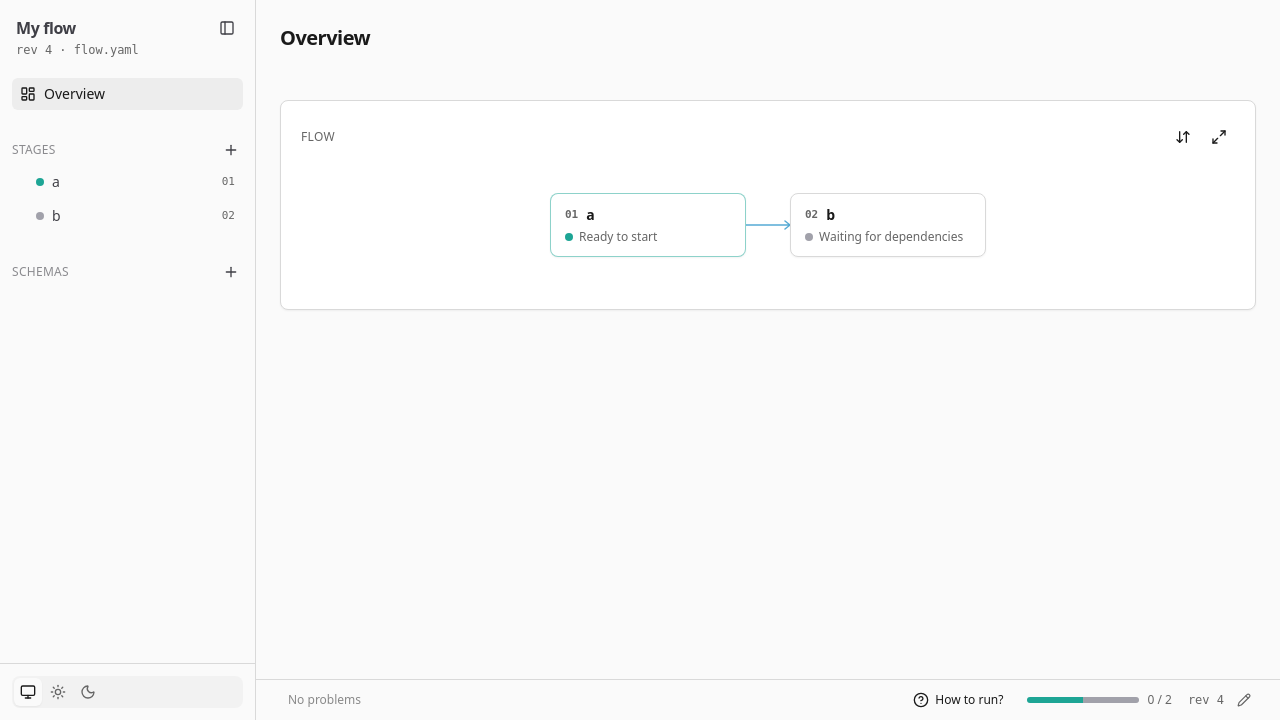
inline editing › escape_cancels_a_name_edit
Click the button with aria-label "Edit flow name" at {"x": 46, "y": 28}, box [12,16,80,40]
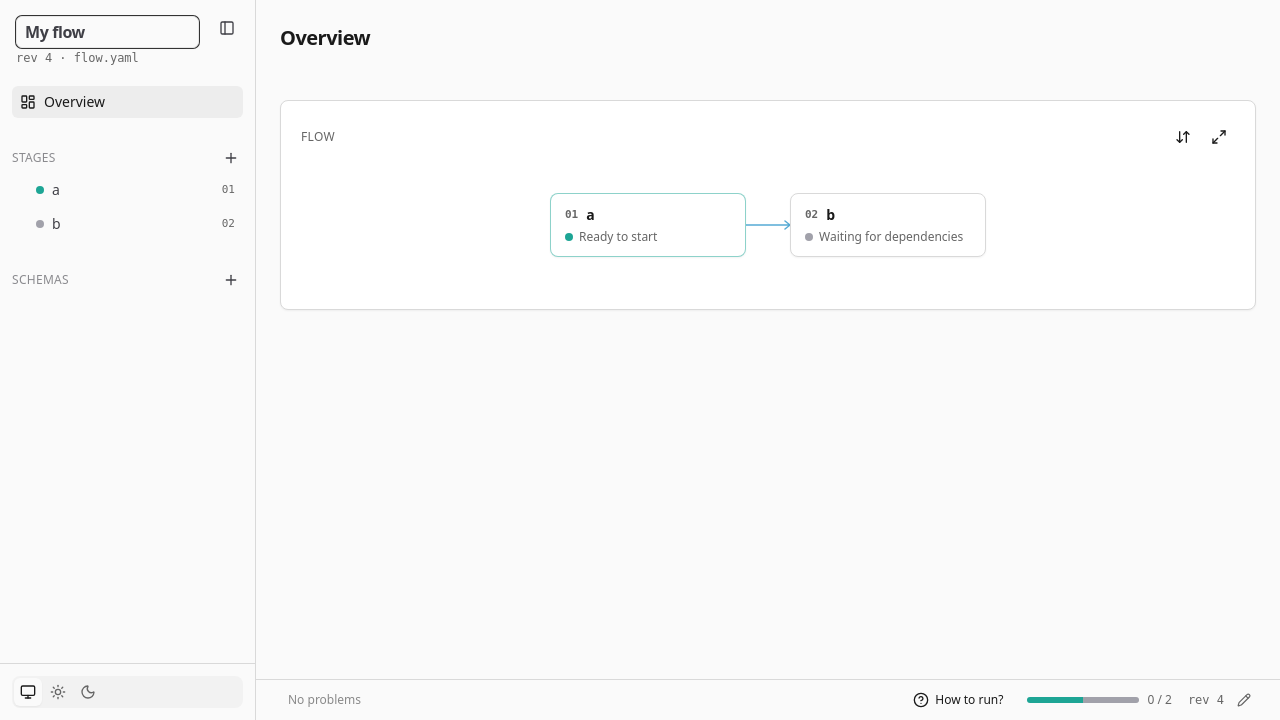
Replace the text in the field named "Flow name" with "Nope" at {"x": 108, "y": 32}, box [16,16,199,48]
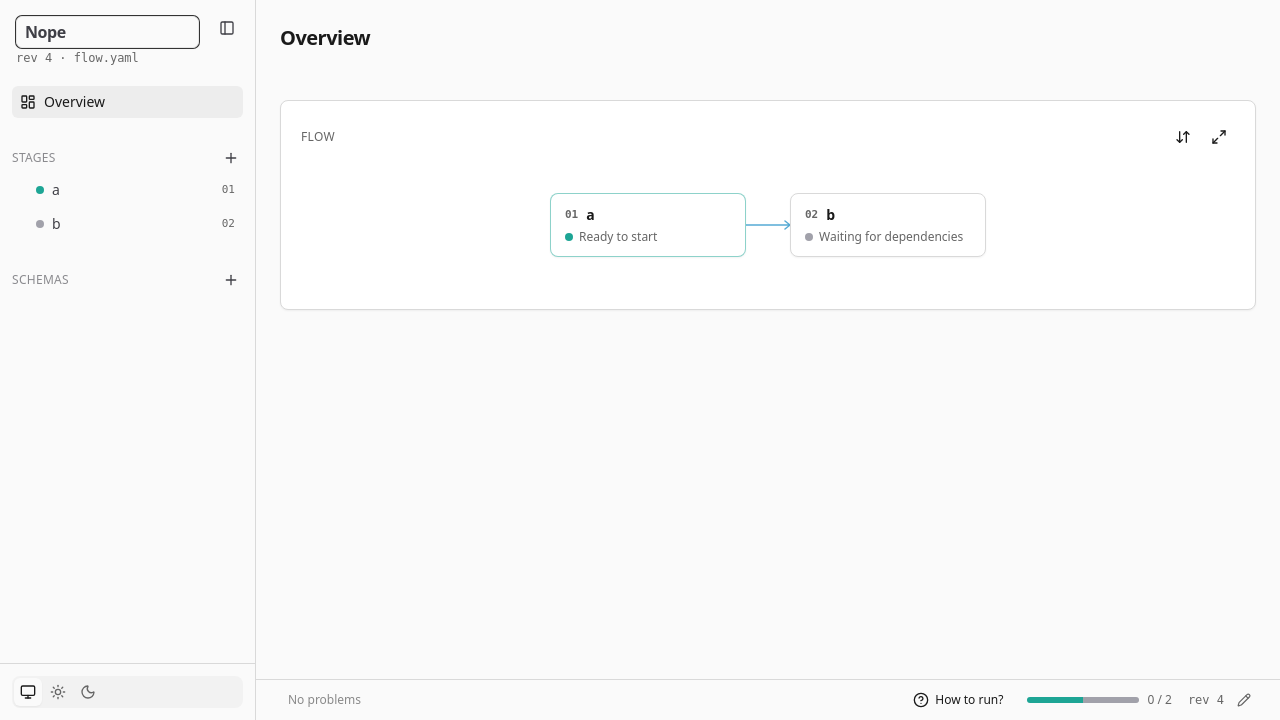
Press Escape in the field named "Flow name", box [16,16,199,48]
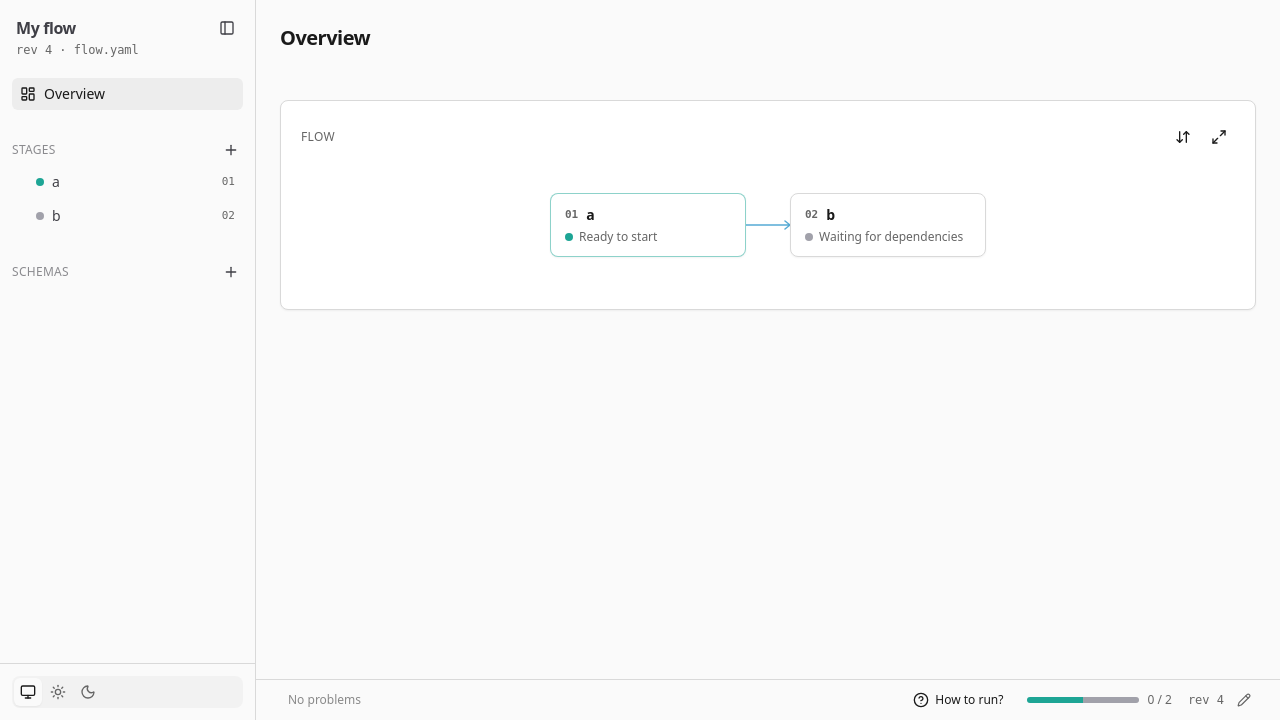
Check: the button "My flow" is shown, box [12,16,80,40]
